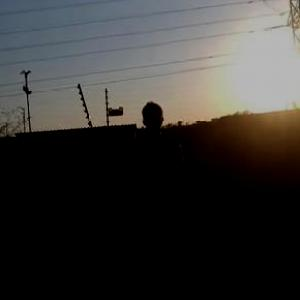follow: (123, 98, 190, 299)
